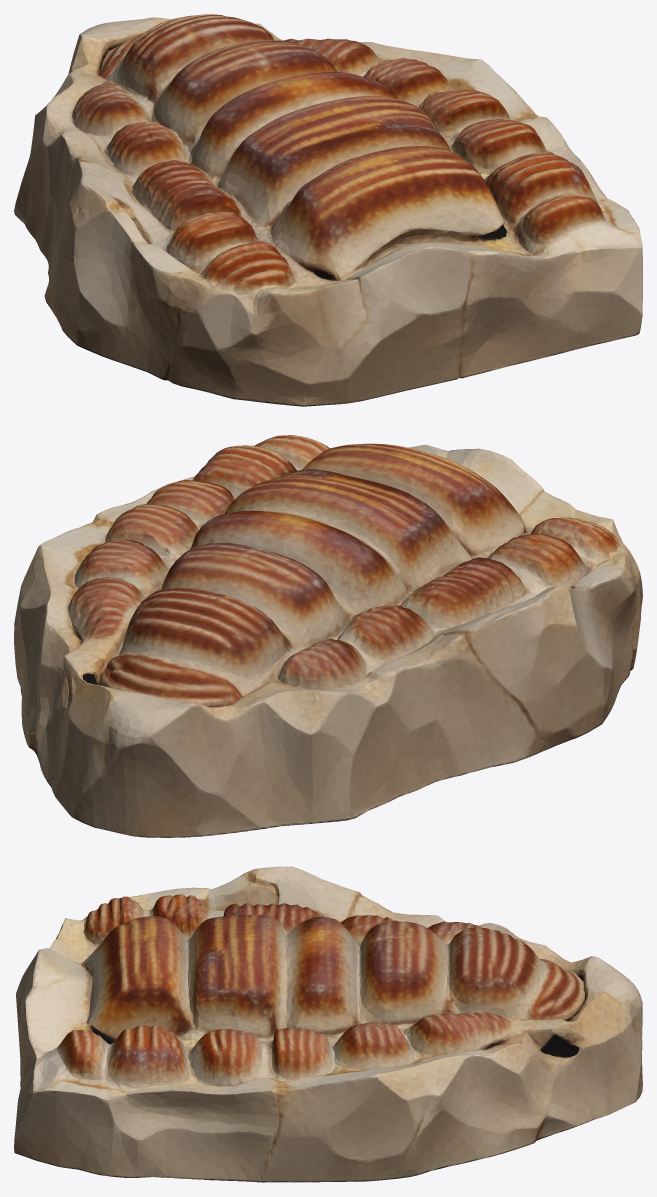
The picture shows the model from 3 angles, top to bottom: view 1: azimuth 30°, elevation 25°; view 2: azimuth 150°, elevation 25°; view 3: azimuth 270°, elevation 25°; orthographic projection. The views are drawn at different scales.
Visible parts, largest first — view 1: world; view 2: world; view 3: world.
Part boxes in pixels (x1,y1,x2,y2): world: (14,14,642,406); world: (14,435,642,837); world: (14,866,642,1182).
Size of the model in its own units: 0.3589 by 0.1211 by 0.45.
1 material, 1 textured.
